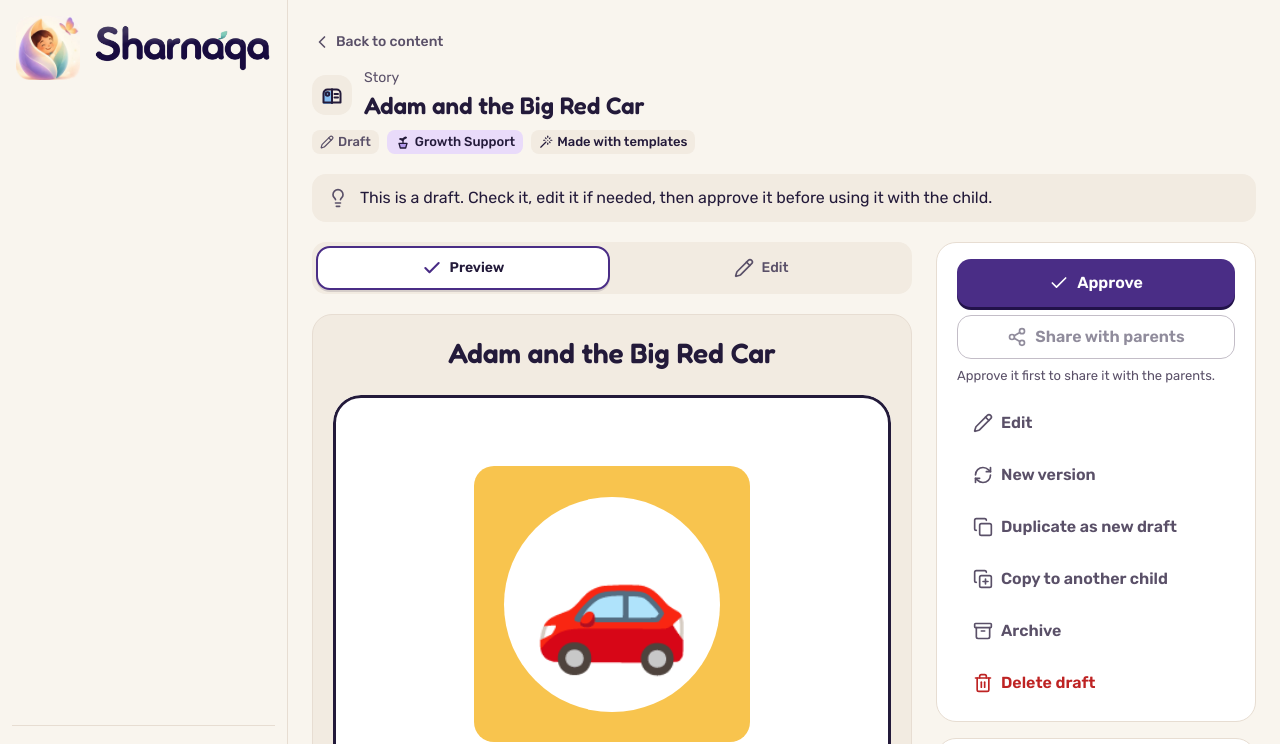
ContentReviewPage › a draft can be approved; Present appears only once it is approved
This screenshot has width=1280, height=744.
Expected: the text with test id "content-status" reads "Draft", [338,134,371,149]
Expected: the link "Present" is not shown
Click the button "Approve".
click(1096, 283)  # box [957,259,1235,307]
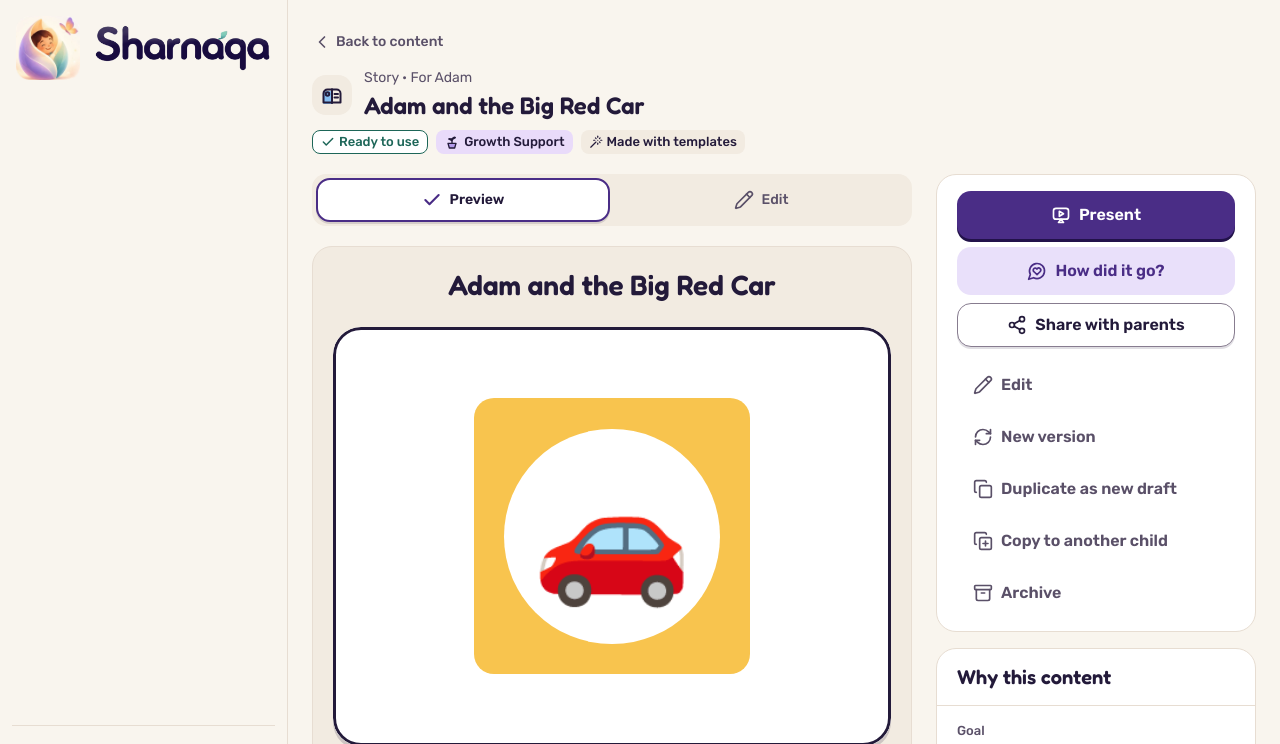
Expected: the text with test id "content-status" reads "Ready to use", [339,134,419,149]
